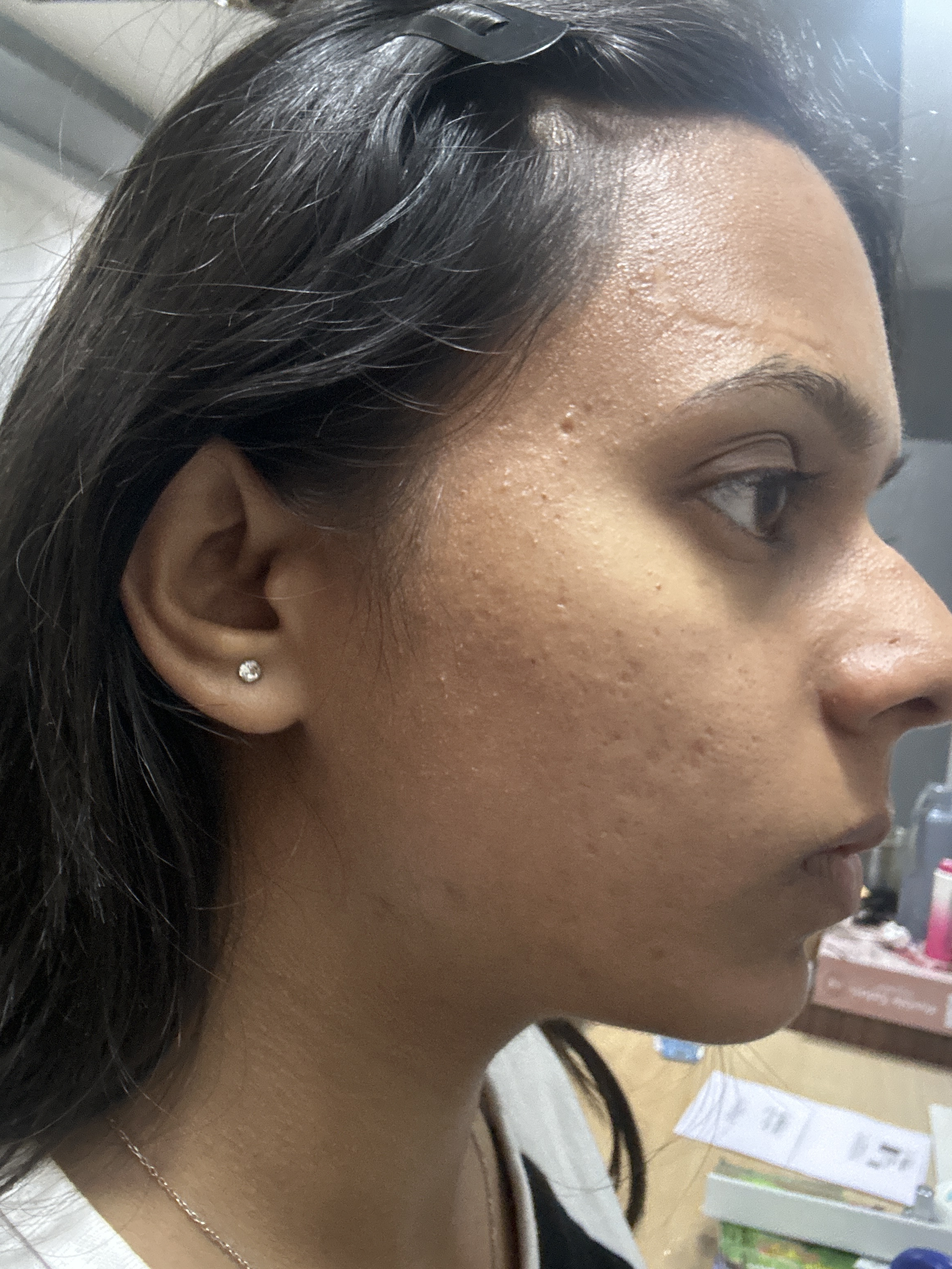closed_comedone: (638, 373, 668, 426), (553, 400, 586, 426), (495, 463, 521, 492), (430, 672, 450, 689), (886, 561, 902, 577)
